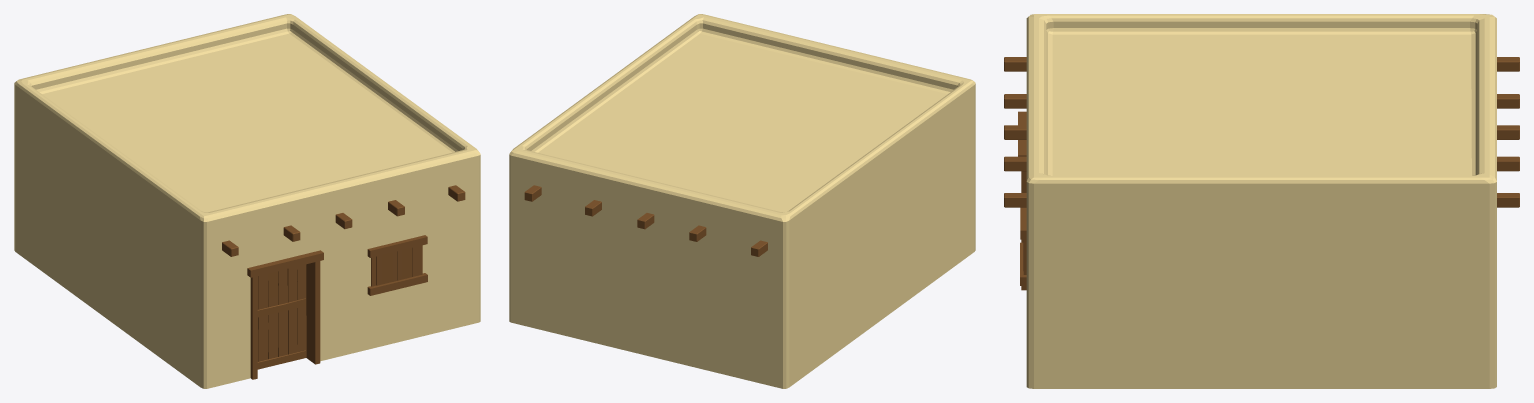
File: building_02.glb
3 renders of one model, left to right at view 1: azimuth 30°, elevation 25°; view 2: azimuth 150°, elevation 25°; view 3: azimuth 270°, elevation 25°, orthographic. The views are drawn at different scales.
Visible parts, largest first — view 1: house, Cube.012, Cube.017, Cube.018; view 2: house; view 3: house.
Boxes of the visible parts, x1,y1,x2,y2 form: house: (14, 14, 480, 388); Cube.012: (257, 264, 306, 369); Cube.017: (376, 251, 397, 285); Cube.018: (397, 246, 417, 280); house: (509, 14, 975, 388); house: (1004, 14, 1519, 388).
Size of the model in its own units: 3.66 by 2.14 by 4.77.
